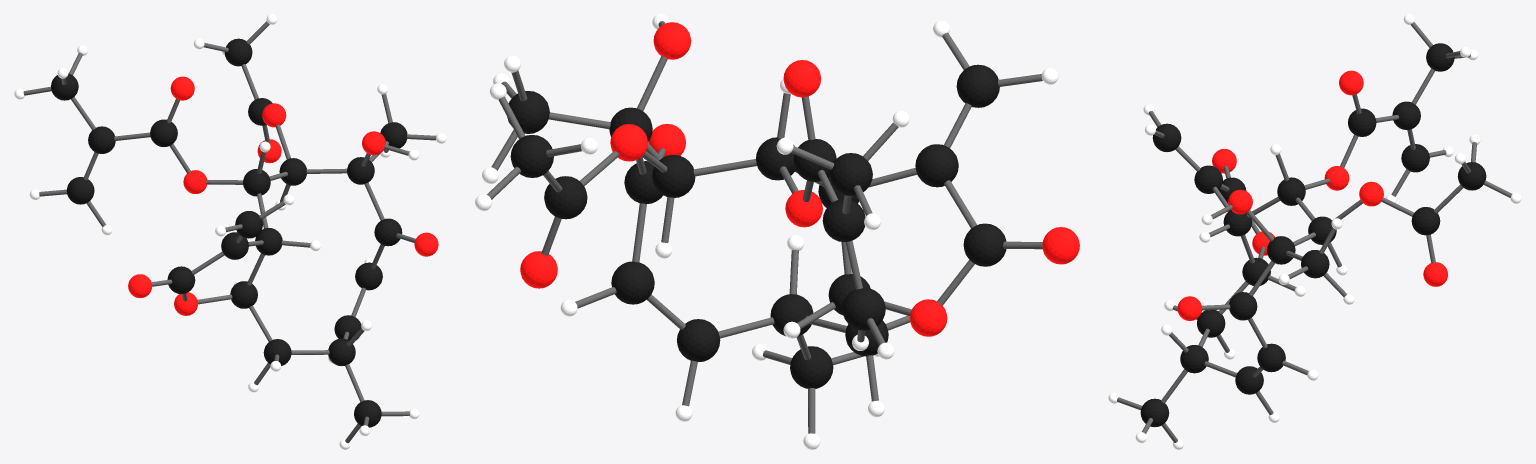
Rendered from molecule.glb.
The picture shows the model from 3 angles, left to right: view 1: azimuth 30°, elevation 25°; view 2: azimuth 150°, elevation 25°; view 3: azimuth 270°, elevation 25°; orthographic projection. The views are drawn at different scales.
Visible parts, largest first — view 1: geometry_1, geometry_3, geometry_0, geometry_19, geometry_27, geometry_10, geometry_13, geometry_15, geometry_9, geometry_18, geometry_6, geometry_24 (+15 smaller); view 2: geometry_9, geometry_18, geometry_10, geometry_8, geometry_17, geometry_0, geometry_27, geometry_2, geometry_26, geometry_24, geometry_16, geometry_1 (+16 smaller); view 3: geometry_26, geometry_19, geometry_8, geometry_18, geometry_0, geometry_3, geometry_1, geometry_17, geometry_6, geometry_15, geometry_2, geometry_22 (+15 smaller).
Part boxes in pixels (bbox=[...]): geometry_1: bbox=[88, 126, 115, 153]; geometry_3: bbox=[150, 119, 177, 146]; geometry_0: bbox=[66, 177, 94, 204]; geometry_19: bbox=[374, 218, 402, 246]; geometry_27: bbox=[224, 38, 252, 66]; geometry_10: bbox=[167, 266, 195, 293]; geometry_13: bbox=[230, 281, 257, 308]; geometry_15: bbox=[328, 338, 355, 366]; geometry_9: bbox=[235, 211, 262, 238]; geometry_18: bbox=[355, 262, 382, 290]; geometry_6: bbox=[243, 169, 270, 196]; geometry_24: bbox=[279, 158, 306, 185]; geometry_9: bbox=[956, 64, 999, 107]; geometry_18: bbox=[611, 261, 654, 304]; geometry_10: bbox=[963, 223, 1006, 266]; geometry_8: bbox=[915, 144, 958, 187]; geometry_17: bbox=[677, 319, 720, 361]; geometry_0: bbox=[842, 287, 885, 330]; geometry_27: bbox=[510, 135, 553, 177]; geometry_2: bbox=[829, 153, 872, 195]; geometry_26: bbox=[544, 176, 587, 219]; geometry_24: bbox=[652, 155, 695, 197]; geometry_16: bbox=[790, 346, 833, 388]; geometry_1: bbox=[822, 199, 865, 241]; geometry_26: bbox=[1411, 207, 1440, 235]; geometry_19: bbox=[1229, 292, 1257, 320]; geometry_8: bbox=[1194, 165, 1222, 193]; geometry_18: bbox=[1257, 343, 1285, 372]; geometry_0: bbox=[1401, 144, 1429, 172]; geometry_3: bbox=[1348, 108, 1376, 136]; geometry_1: bbox=[1392, 101, 1420, 129]; geometry_17: bbox=[1235, 366, 1263, 394]; geometry_6: bbox=[1277, 177, 1305, 205]; geometry_15: bbox=[1180, 345, 1208, 373]; geometry_2: bbox=[1426, 43, 1454, 71]; geometry_22: bbox=[1301, 250, 1329, 278].
Bounding box in the file's own units: 0.255 × 0.2402 × 0.257.
